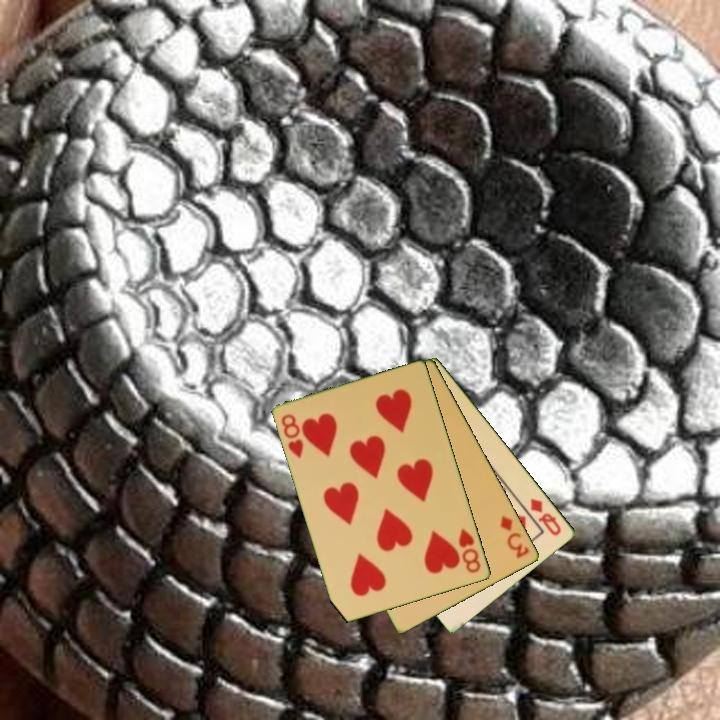3d: (497, 512, 533, 561)
8h: (455, 525, 484, 576), (278, 411, 307, 462)
Qd: (527, 495, 565, 539)
